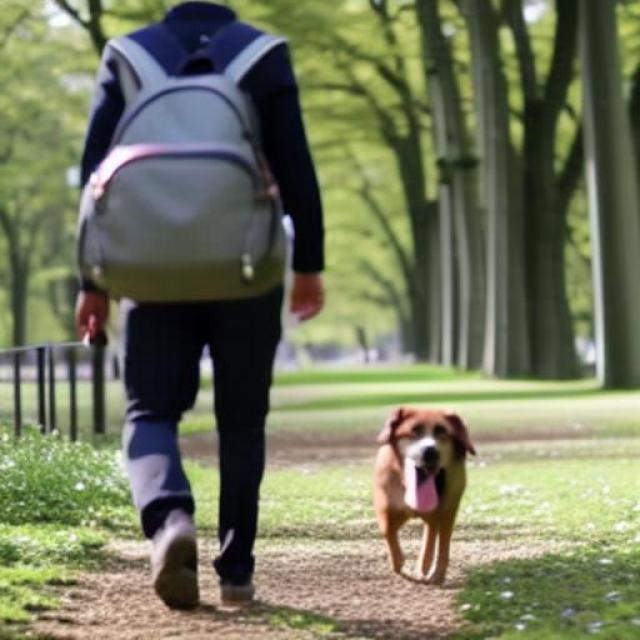Unleashed_Dog: (123, 304, 478, 588)
